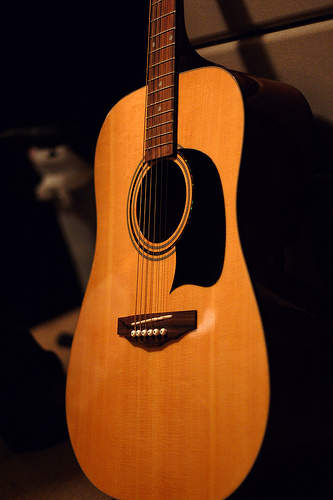guitar: (63, 1, 333, 499)
